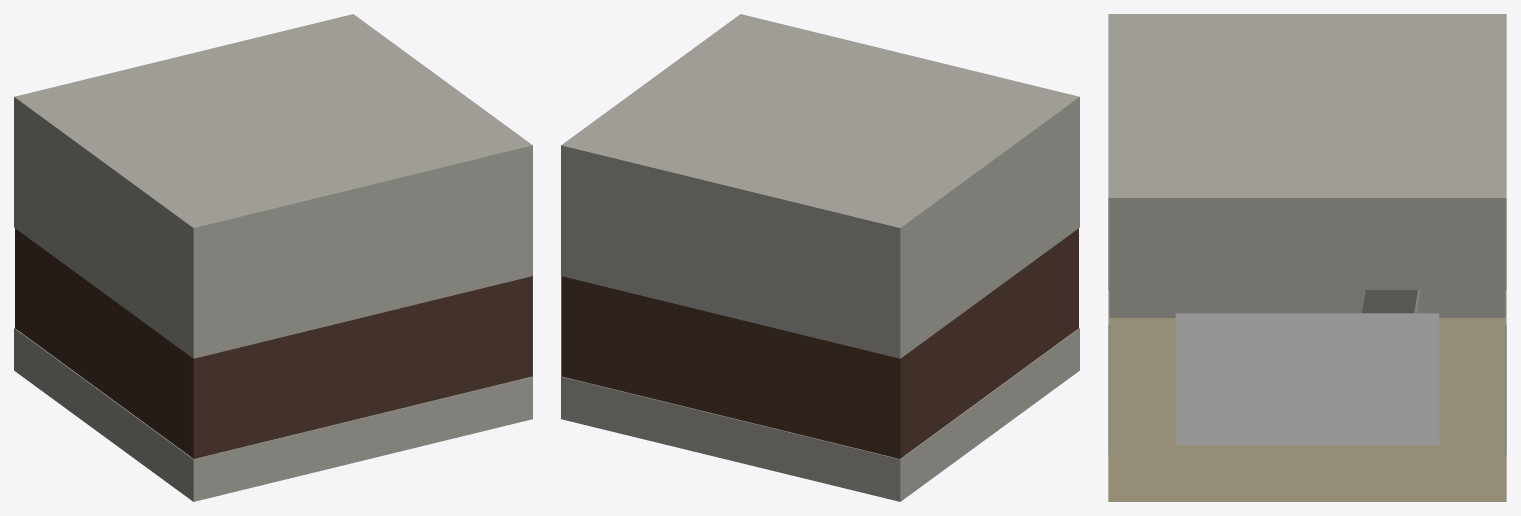
File: main menu.fbx
3 views of the same model, side by side, from view 1: azimuth 30°, elevation 25°; view 2: azimuth 150°, elevation 25°; view 3: azimuth 270°, elevation 25° (orthographic). The views are drawn at different scales.
Parts seen in each view (by area): view 1: Cube; view 2: Cube; view 3: Cube, Cube.001, can:Cube_001_Cube_002.
Part boxes in pixels (left/top/right/bottom): Cube: left=14, top=14, right=532, bottom=501; Cube: left=561, top=14, right=1079, bottom=501; Cube: left=1108, top=14, right=1506, bottom=501; Cube.001: left=1175, top=313, right=1439, bottom=444; can:Cube_001_Cube_002: left=1362, top=290, right=1419, bottom=313.
Bounding box in the file's own units: 6721 × 5270 × 6157.
